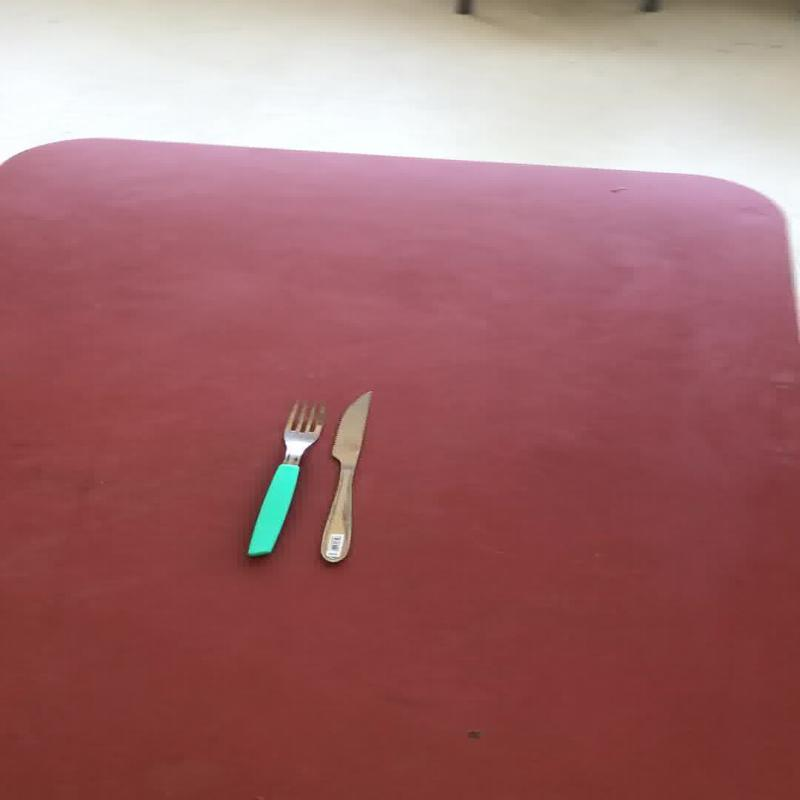fork: (245, 399, 324, 556)
knife: (318, 389, 372, 562)
